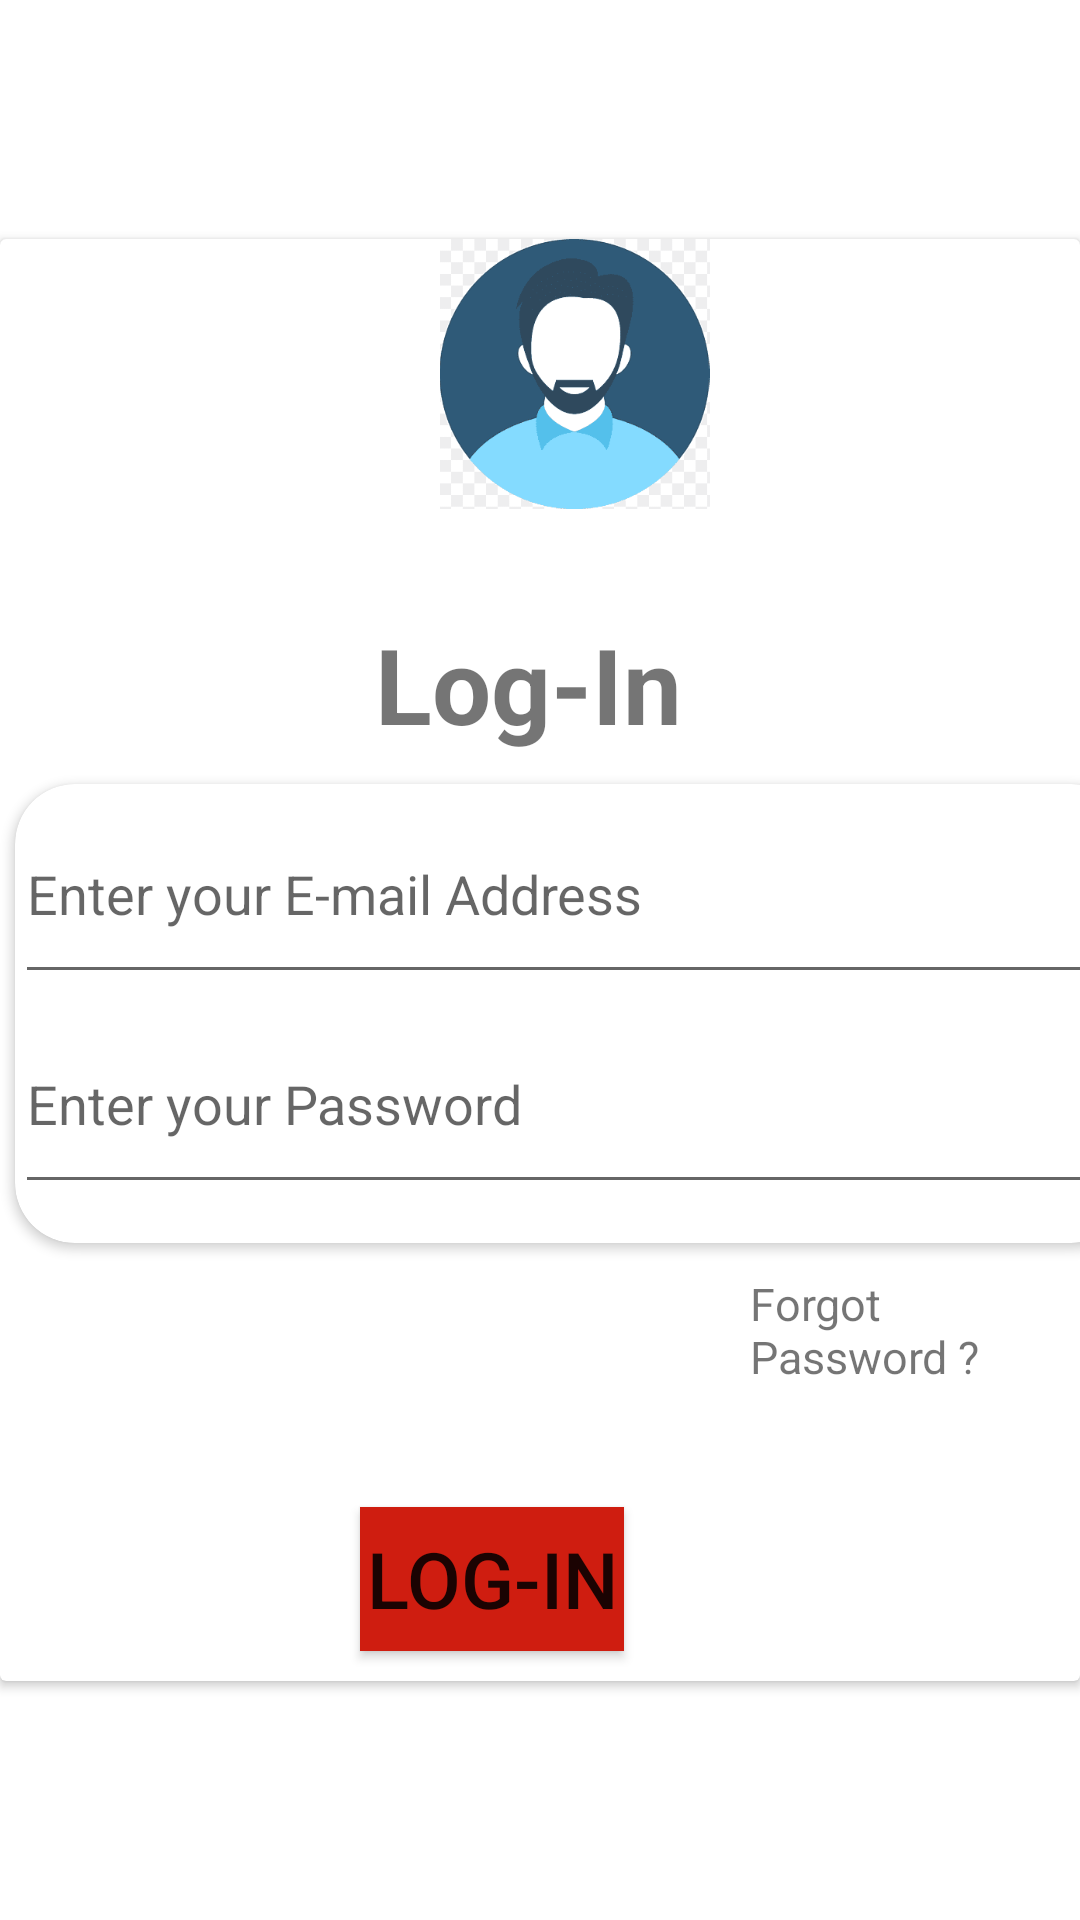

Icons on this 1080×1920 Android screen, each with the point to tap as (x,y):
profile: (575,374)
